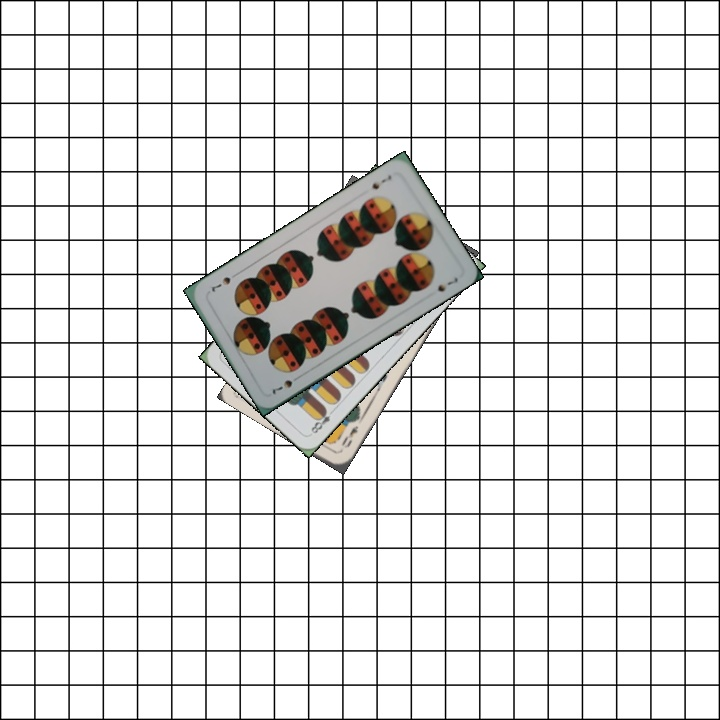E8: (307, 404, 338, 436)
EO: (337, 422, 361, 450)
S7: (266, 371, 303, 397), (368, 171, 394, 192)
